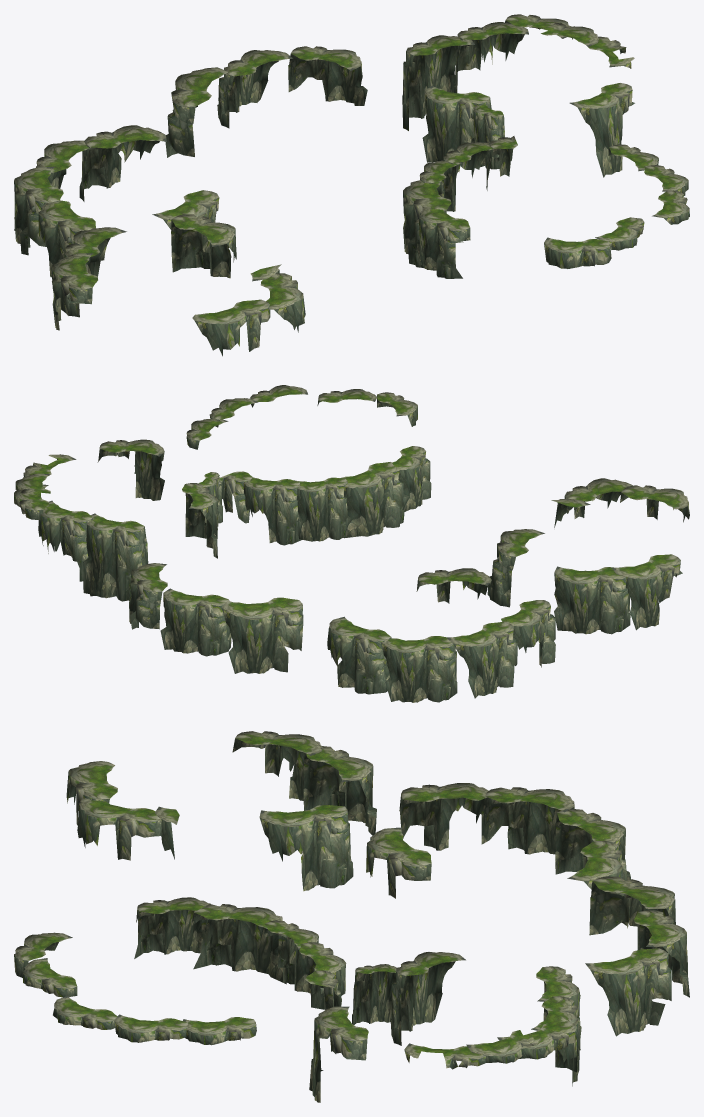
The model's file is forest_01_stone_03.FBX.
3 renders of one model, top to bottom at view 1: azimuth 30°, elevation 25°; view 2: azimuth 150°, elevation 25°; view 3: azimuth 270°, elevation 25°, orthographic. The views are drawn at different scales.
Visible parts, largest first — view 1: stone3; view 2: stone3; view 3: stone3.
Part boxes in pixels (<box>): stone3: <box>14,14,689,356</box>; stone3: <box>14,385,689,702</box>; stone3: <box>14,731,689,1102</box>.
Size of the model in its own units: 163 by 23 by 132.
1 material, 1 textured.
